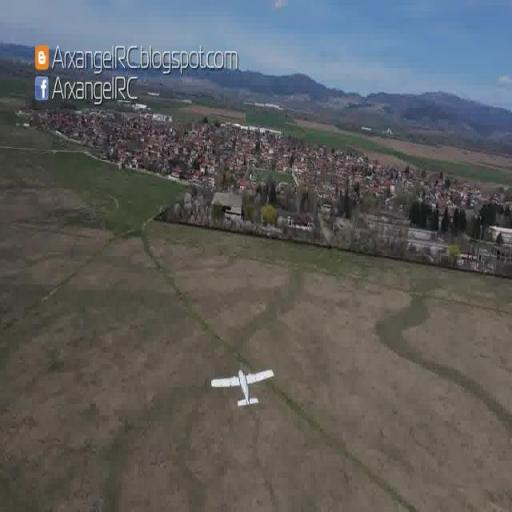uav: (208, 363, 277, 412)
